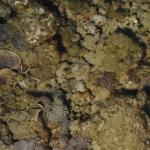dead: (1, 5, 147, 148)
